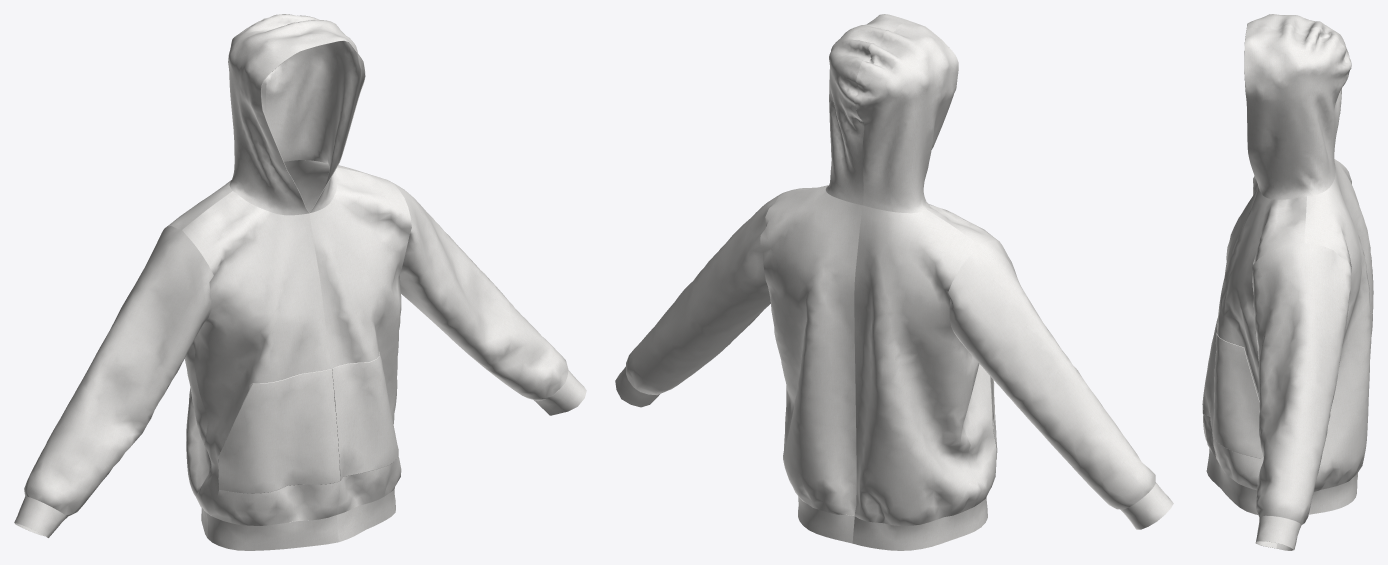
File: MHoodiex.glb
3 renders of one model, left to right at view 1: azimuth 30°, elevation 25°; view 2: azimuth 150°, elevation 25°; view 3: azimuth 270°, elevation 25°, orthographic. The views are drawn at different scales.
Parts seen in each view (by area): view 1: T_Shirt_male; view 2: T_Shirt_male; view 3: T_Shirt_male.
Boxes of the visible parts, x1,y1,x2,y2 form: T_Shirt_male: [14, 14, 586, 550]; T_Shirt_male: [615, 14, 1173, 550]; T_Shirt_male: [1202, 14, 1373, 550].
Size of the model in its own units: 1.11 by 0.9386 by 0.3179.
1 material, 1 textured.
